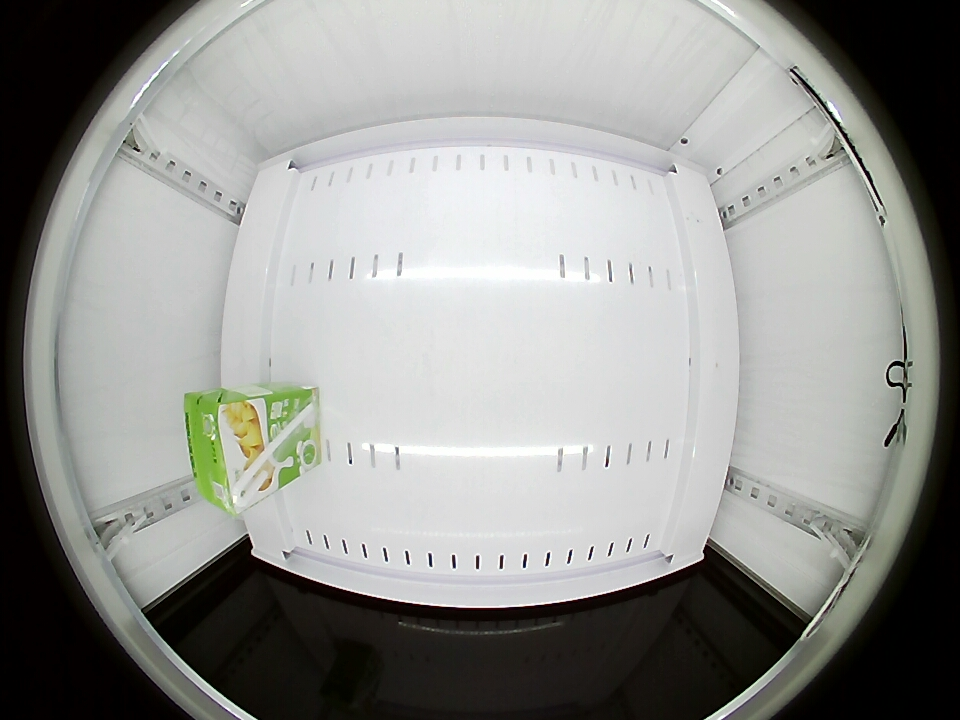mengniuzaocan: (185, 389, 275, 515)
